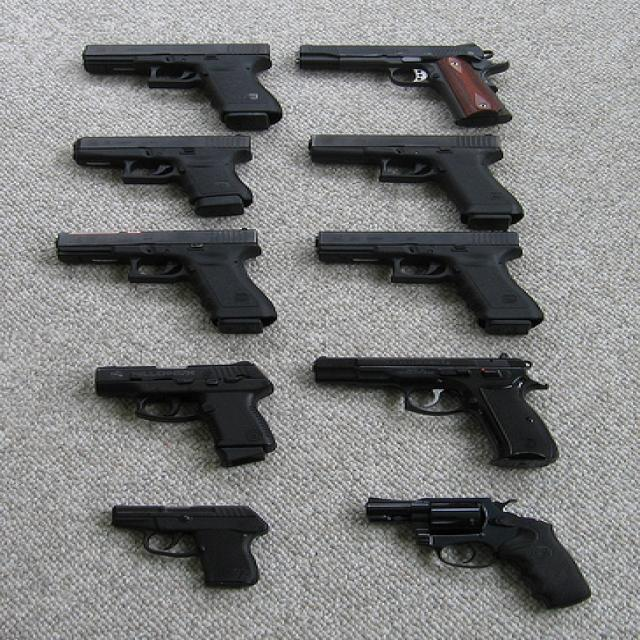weapon: (308, 352, 560, 467), (363, 494, 591, 609), (314, 228, 544, 336), (89, 360, 279, 468), (106, 504, 272, 590)
